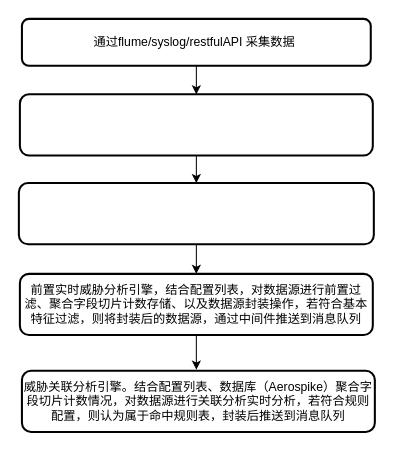
The diagram is 393 pixels wide and 450 high, and some of its shapes have lost their labels. The centre of each missing label's shape, as x and y in pixels:
实时加载关联分析配置列表，存储到缓存数据库中: (x=195, y=213)
通过数据格式化框架，对数据进行ETL转换和清洗，转换为结构化数据源: (x=195, y=124)
